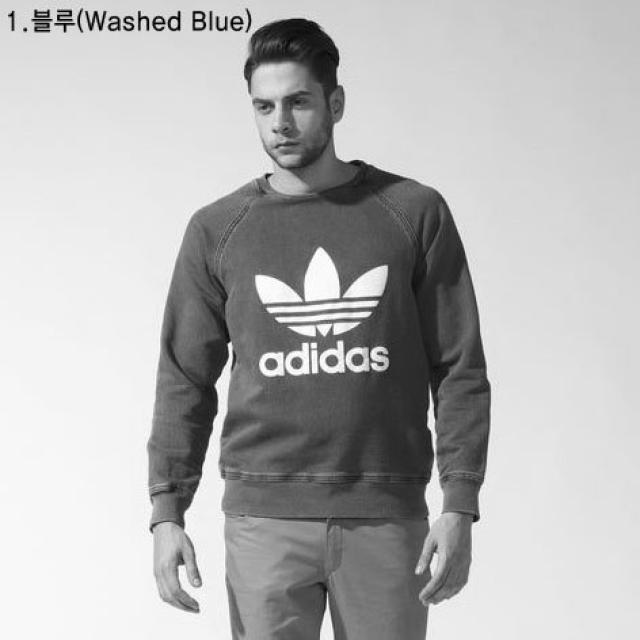Adidas: (240, 233, 410, 350)
